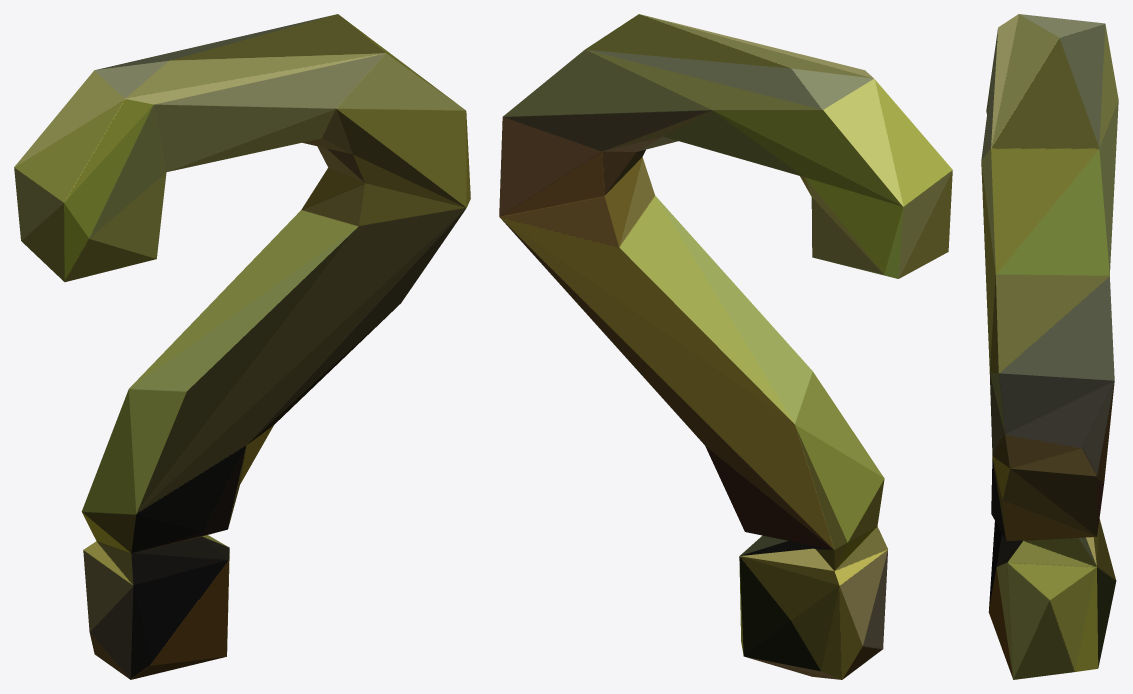
Rendered from question.fbx.
3 views of the same model, side by side, from view 1: azimuth 30°, elevation 25°; view 2: azimuth 150°, elevation 25°; view 3: azimuth 270°, elevation 25° (orthographic). The views are drawn at different scales.
Visible parts, largest first — view 1: Mesh_0; view 2: Mesh_0; view 3: Mesh_0.
Part boxes in pixels (x1,y1,x2,y2): Mesh_0: [14, 14, 470, 679]; Mesh_0: [499, 14, 952, 679]; Mesh_0: [981, 14, 1118, 679].
Size of the model in its own units: 85.12 by 120 by 23.55.
1 material, 1 textured.
